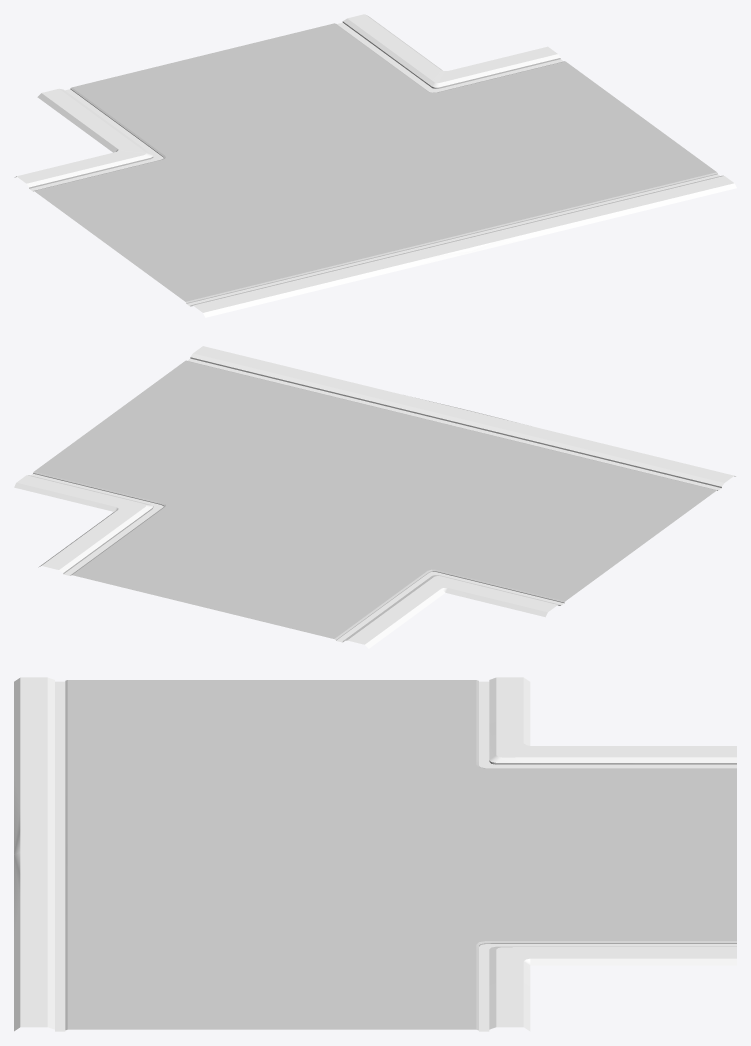
File: T_junction_narow_and_thin.fbx
The picture shows the model from 3 angles, top to bottom: view 1: azimuth 30°, elevation 25°; view 2: azimuth 150°, elevation 25°; view 3: azimuth 270°, elevation 25°; orthographic projection. The views are drawn at different scales.
Parts seen in each view (by area): view 1: T_junction_narow_and_thin; view 2: T_junction_narow_and_thin; view 3: T_junction_narow_and_thin.
Part boxes in pixels (x1,y1,x2,y2): T_junction_narow_and_thin: (14, 14, 736, 317); T_junction_narow_and_thin: (14, 346, 735, 648); T_junction_narow_and_thin: (14, 677, 736, 1031).
Size of the model in its own units: 5.98 by 0.0345 by 5.22.
